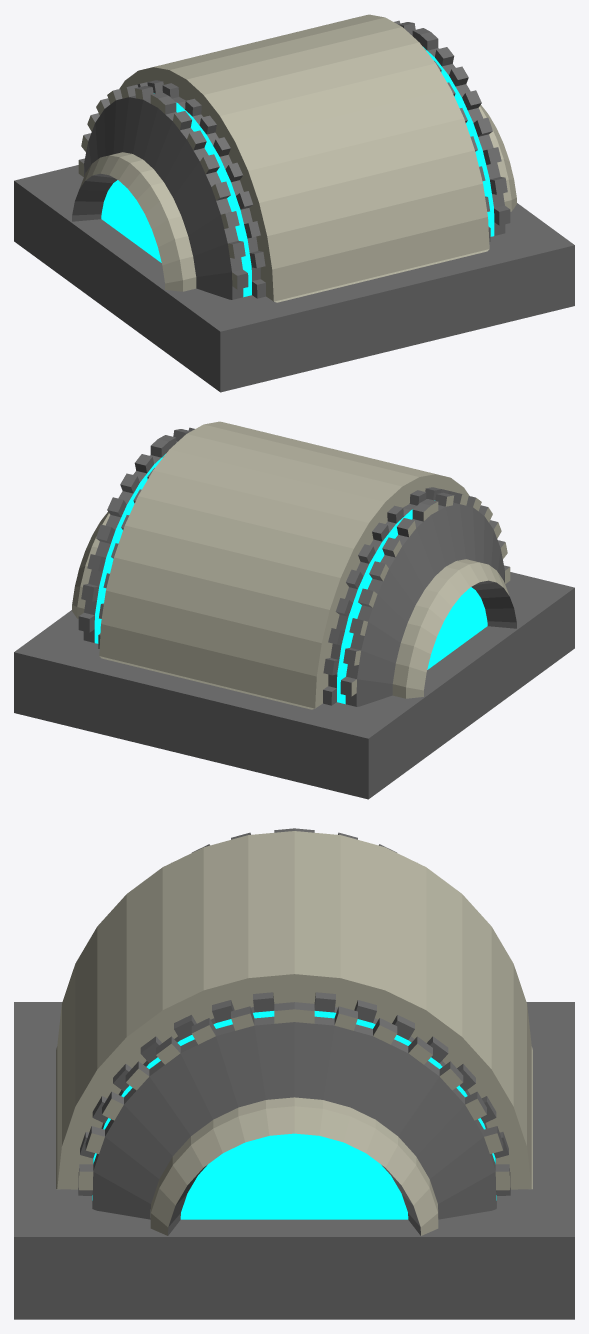
File: GeneratorActive.fbx
3 renders of one model, top to bottom at view 1: azimuth 30°, elevation 25°; view 2: azimuth 150°, elevation 25°; view 3: azimuth 270°, elevation 25°, orthographic. The views are drawn at different scales.
Parts seen in each view (by area): view 1: Cube; view 2: Cube; view 3: Cube.
Boxes of the visible parts, x1,y1,x2,y2 form: Cube: (14,14,574,392); Cube: (14,421,574,799); Cube: (14,828,574,1319).
Size of the model in its own units: 198 by 118 by 200.
